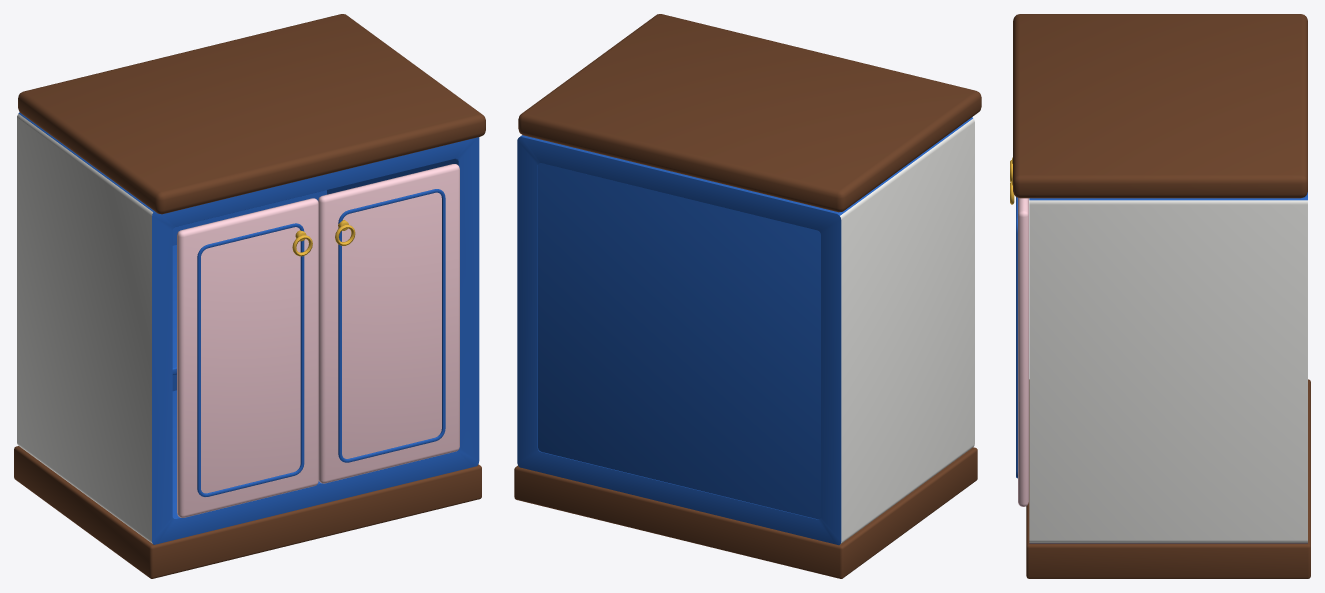
File: armario_cozinha_base_2portas_colonial_rosa.glb
The picture shows the model from 3 angles, left to right: view 1: azimuth 30°, elevation 25°; view 2: azimuth 150°, elevation 25°; view 3: azimuth 270°, elevation 25°; orthographic projection. The views are drawn at different scales.
Visible parts, largest first — view 1: armario_cozinha_base_2portas_colonial_rosa, porta_2, porta_1; view 2: armario_cozinha_base_2portas_colonial_rosa; view 3: armario_cozinha_base_2portas_colonial_rosa, porta_2.
Boxes of the visible parts, bbox=[...] form: armario_cozinha_base_2portas_colonial_rosa: bbox=[14, 14, 485, 578]; porta_2: bbox=[318, 164, 459, 483]; porta_1: bbox=[177, 198, 318, 517]; armario_cozinha_base_2portas_colonial_rosa: bbox=[514, 14, 981, 578]; armario_cozinha_base_2portas_colonial_rosa: bbox=[1013, 14, 1310, 578]; porta_2: bbox=[1010, 179, 1028, 506].
Bounding box in the file's own units: 0.804 × 0.9 × 0.6112.
1 material, 1 textured.
